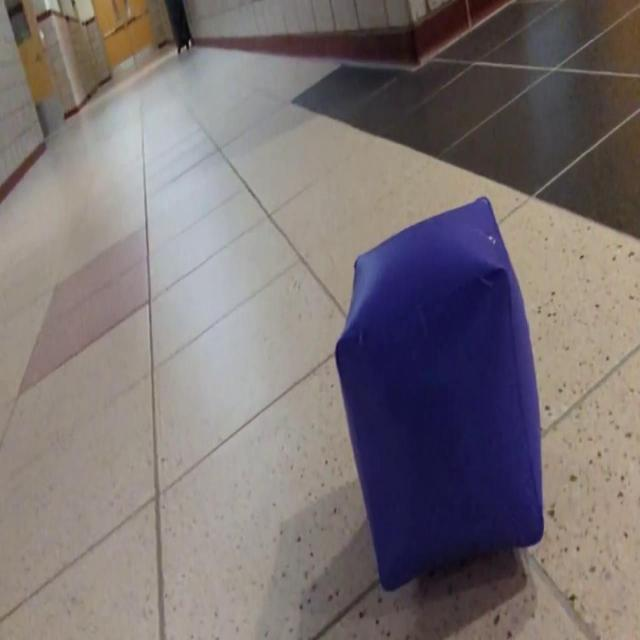frc_cube: (337, 200, 543, 589)
